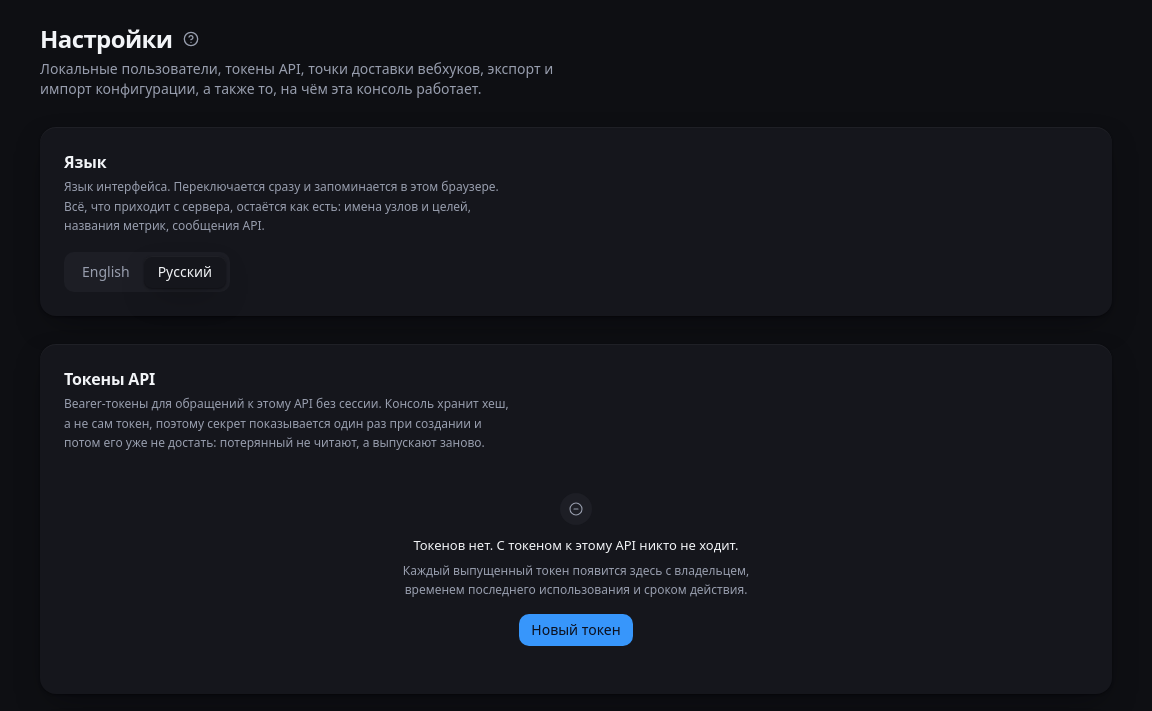
Test case: /settings in Russian › translates the token form, including the one-time-secret warning
Click the button "Новый токен".
click(576, 630)  # box [519,614,633,646]
(page scrolled)
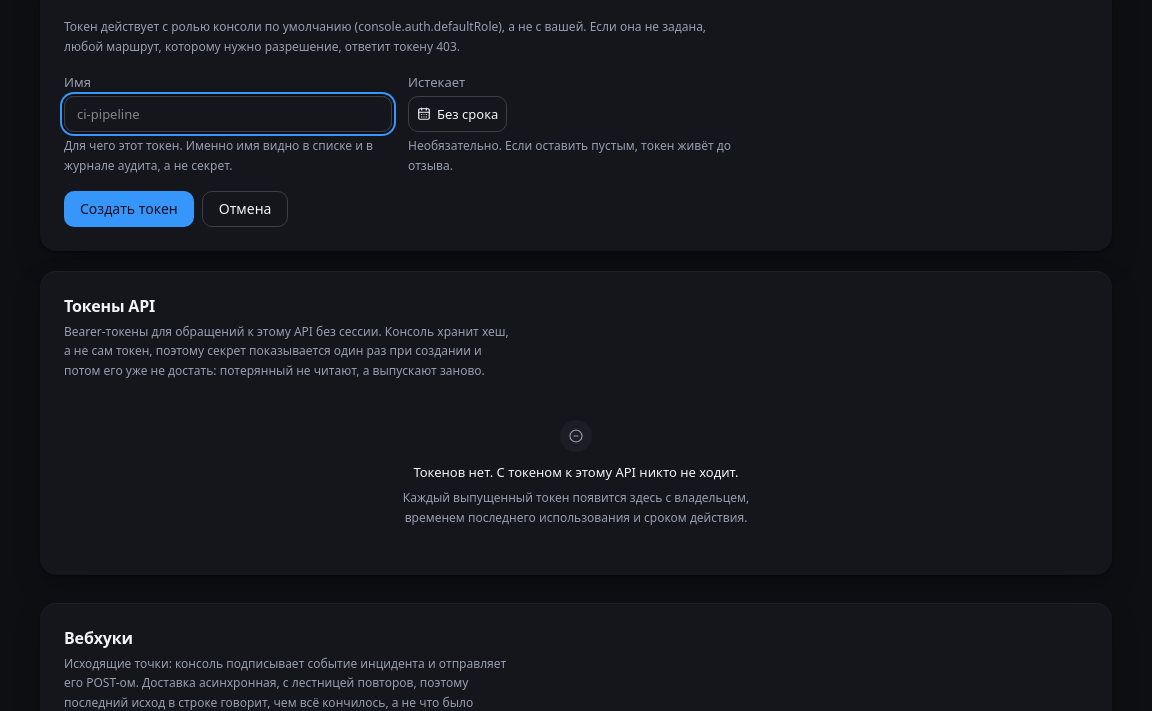
Expected: the field labelled "Имя" is shown, [64,96,392,132]
Expected: the button with aria-label "Истекает" is shown, [408,96,507,132]
Expected: the button "Создать токен" is shown, [64,191,194,227]
